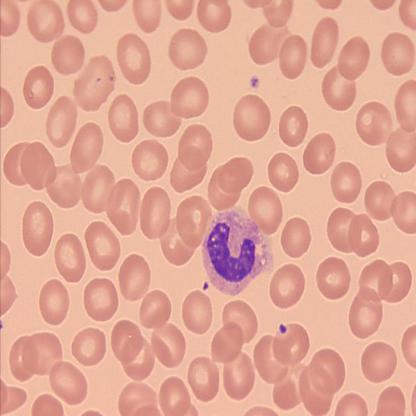Band Neutrophil: (199, 203, 274, 300)
